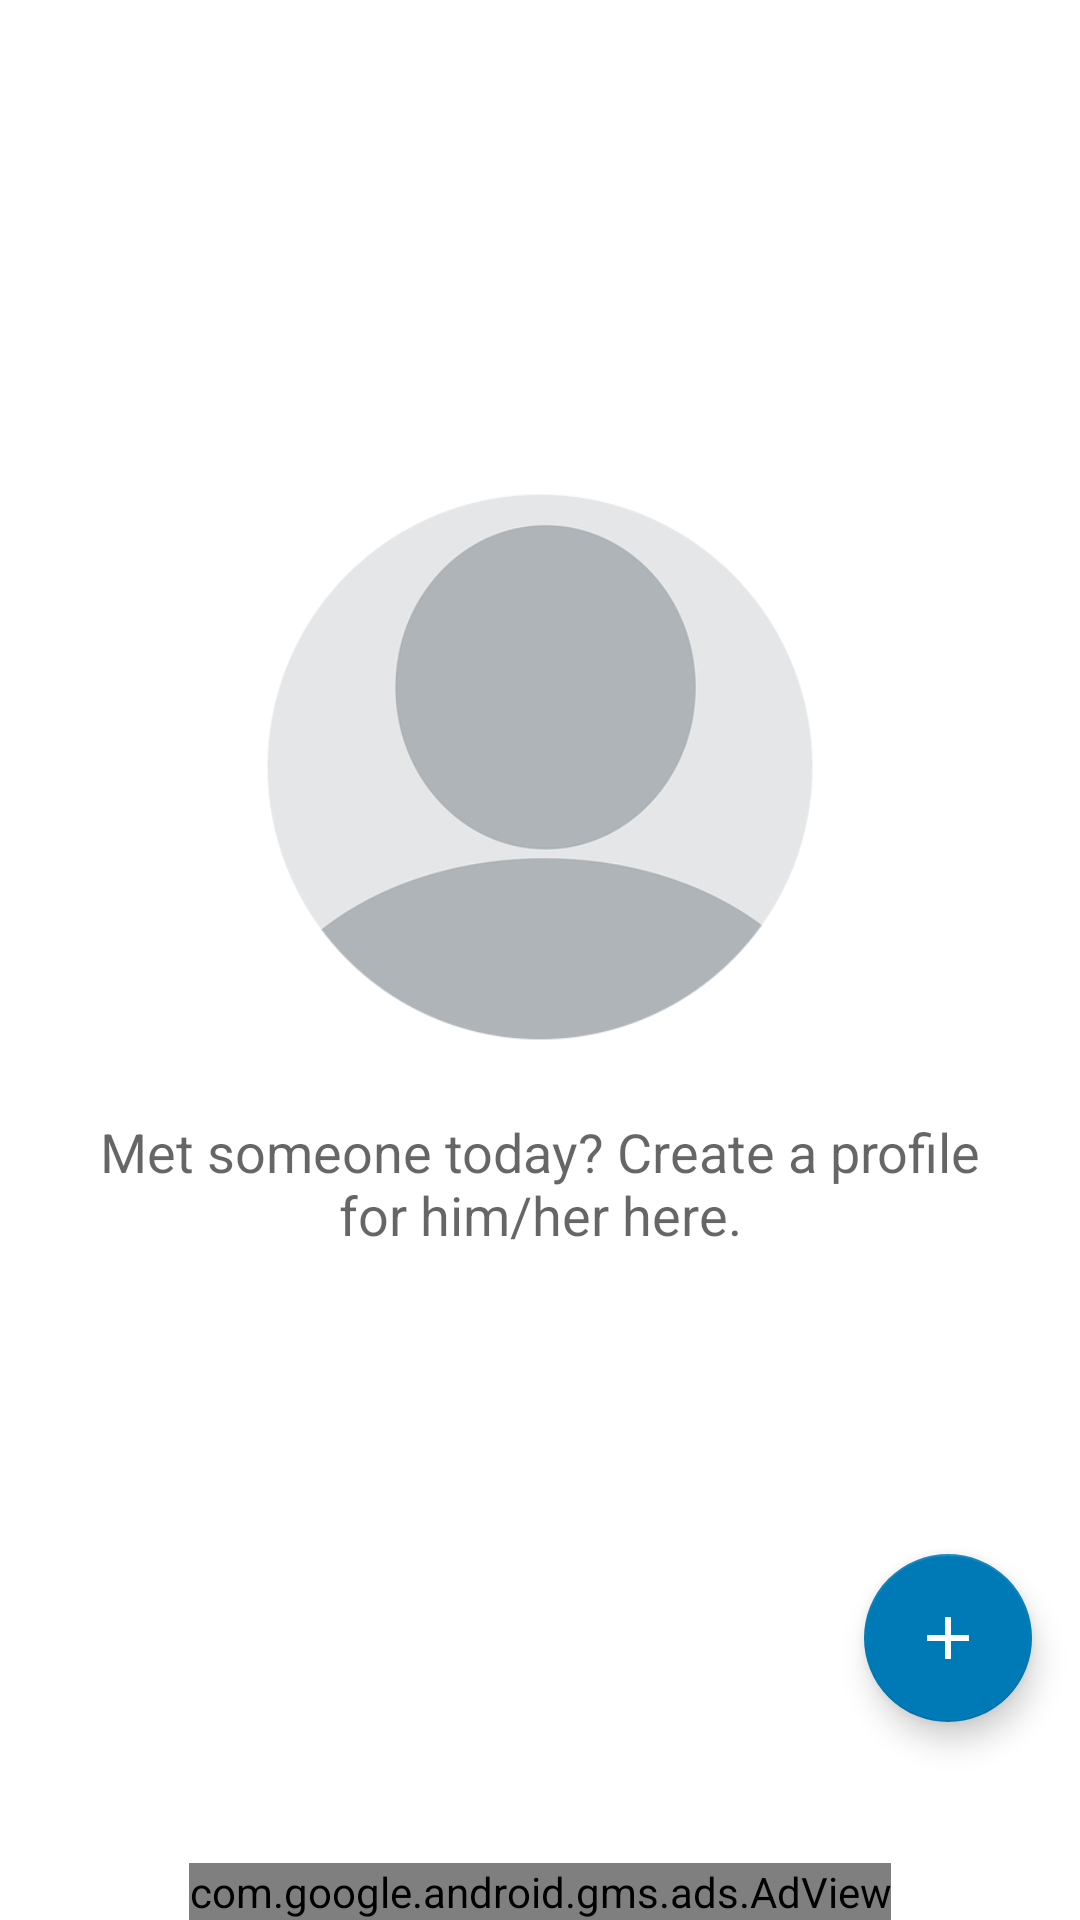

Icons on this 1080w x 1920h Android screen, each with its box as [x1,y1,x2,y2]:
Add new profile: [864,1554,1032,1722]
